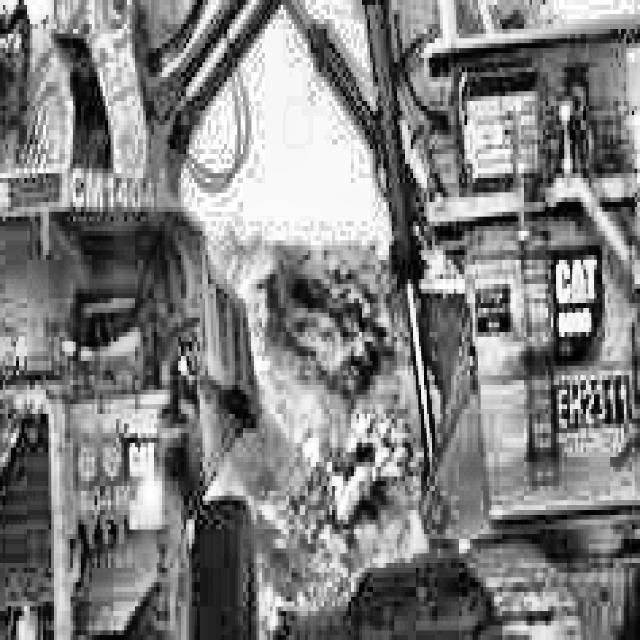dump_truck: (0, 120, 278, 640)
